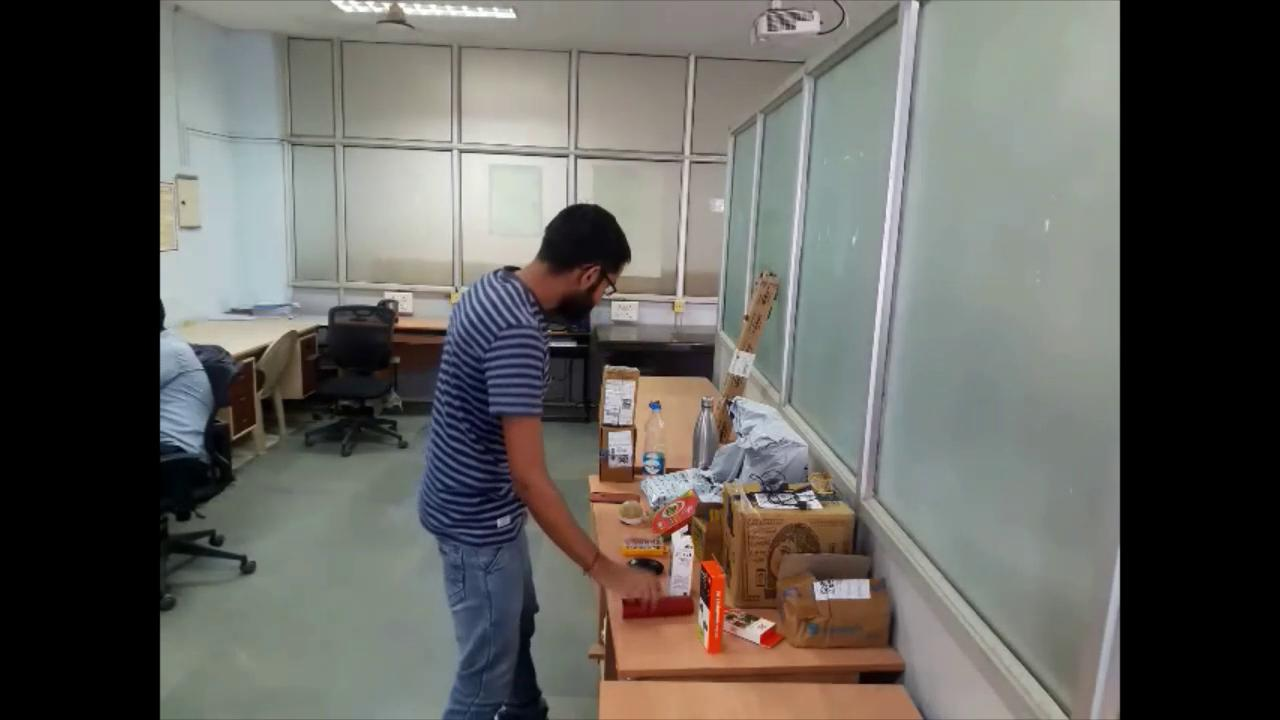Normal: (415, 198, 666, 720)
